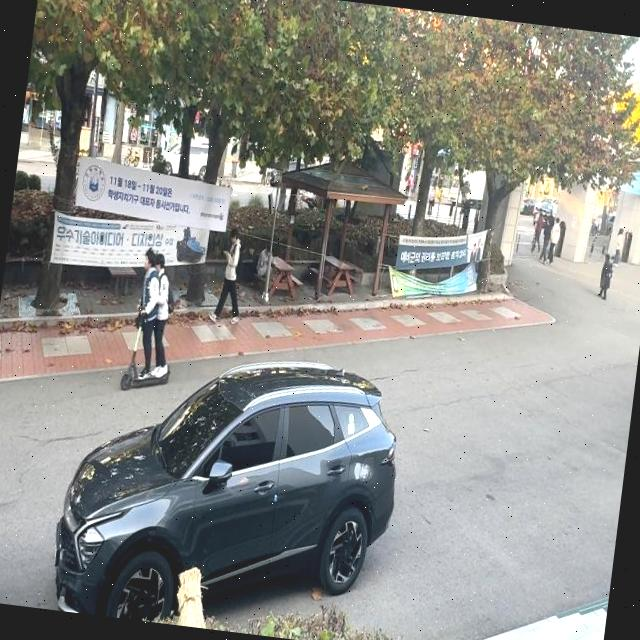bare_head: (149, 248, 172, 272), (141, 249, 162, 270)
human: (150, 250, 175, 381), (132, 246, 156, 381)
kickboard: (111, 352, 184, 394)
